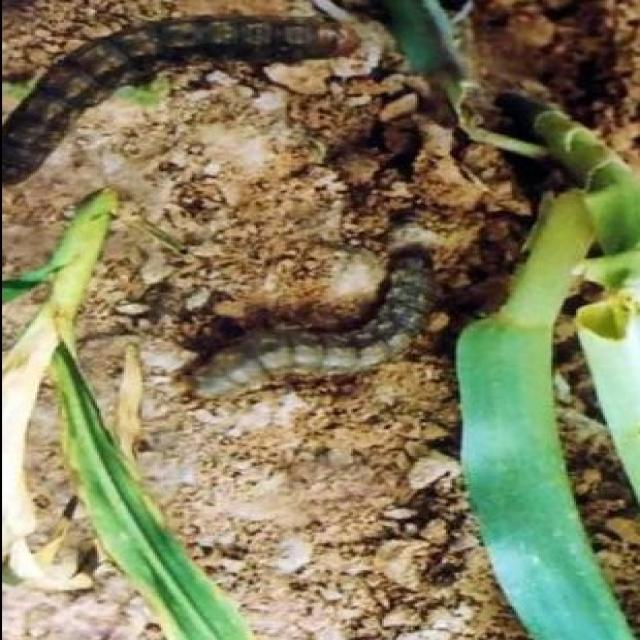black cutworm: (2, 17, 363, 193), (186, 249, 444, 407)
